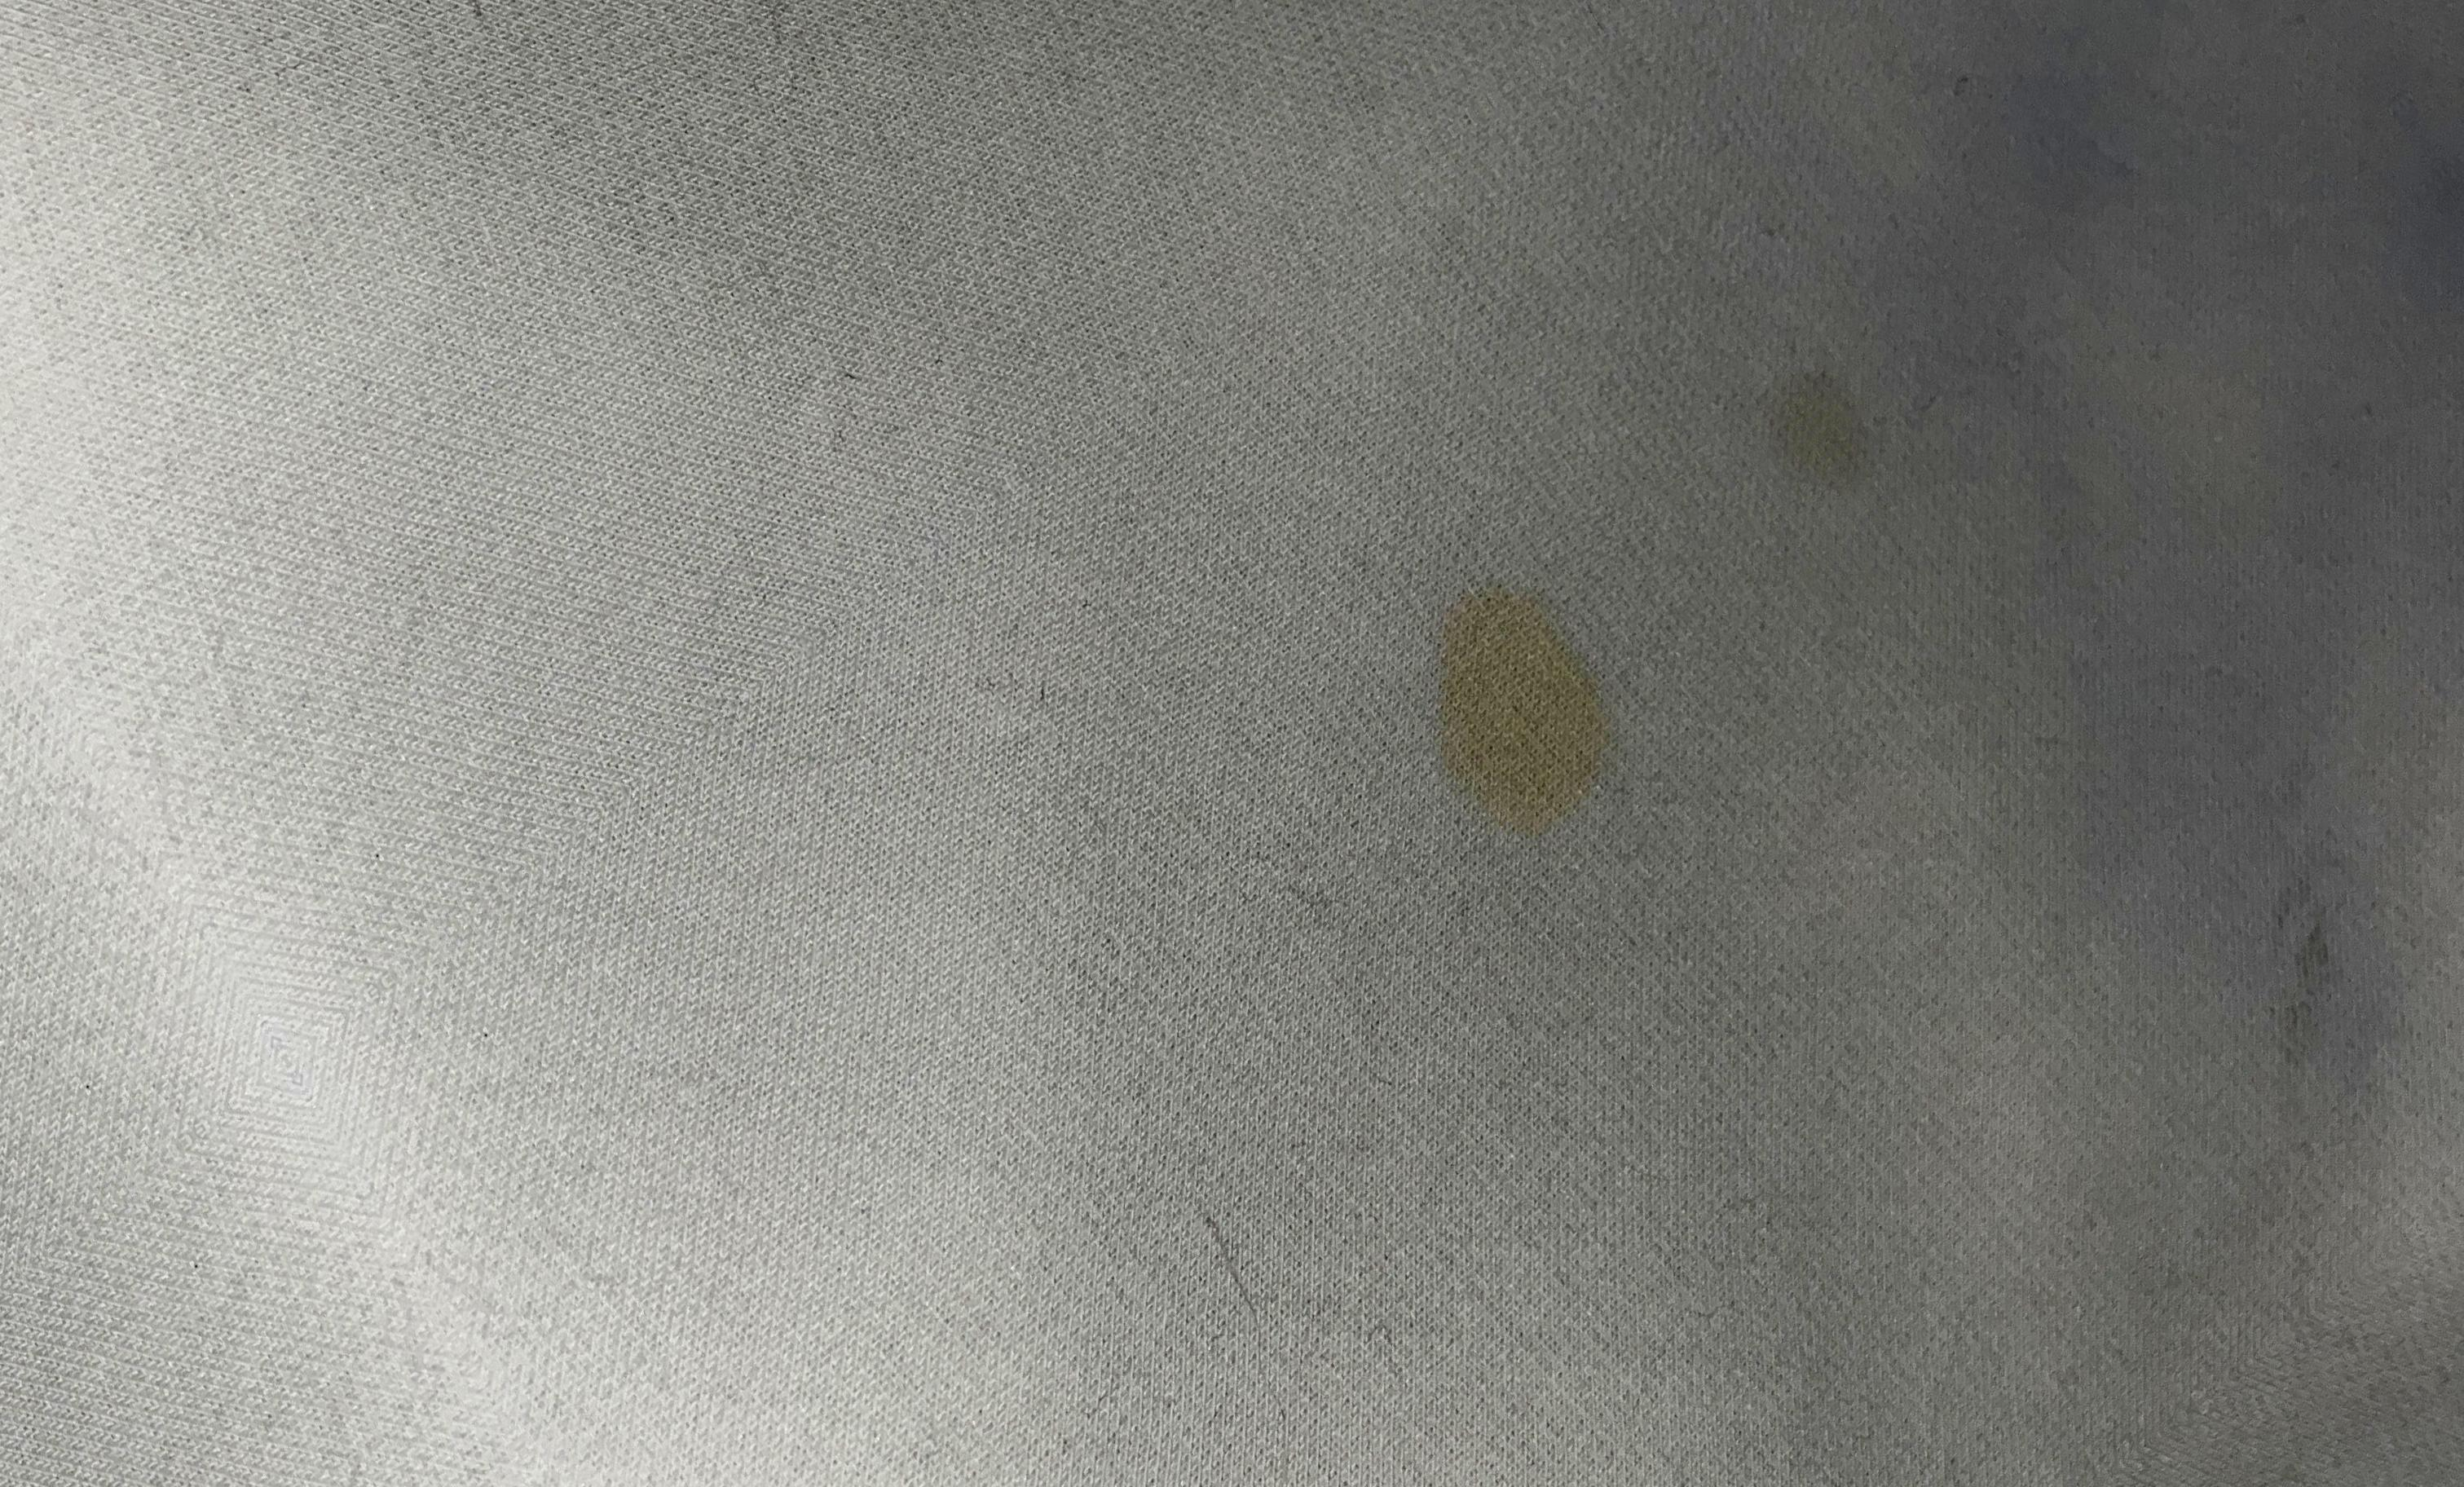stain: (1417, 581, 1630, 836), (1765, 345, 1890, 507)
